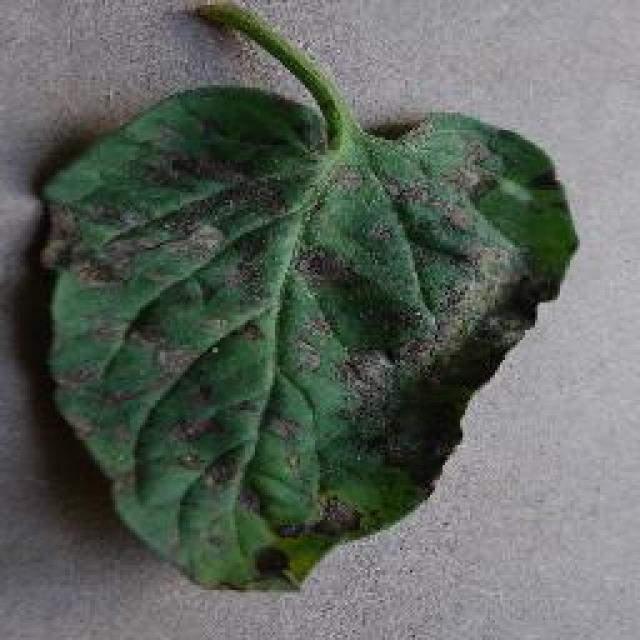Tomato___Early_blight: (42, 6, 586, 596)
